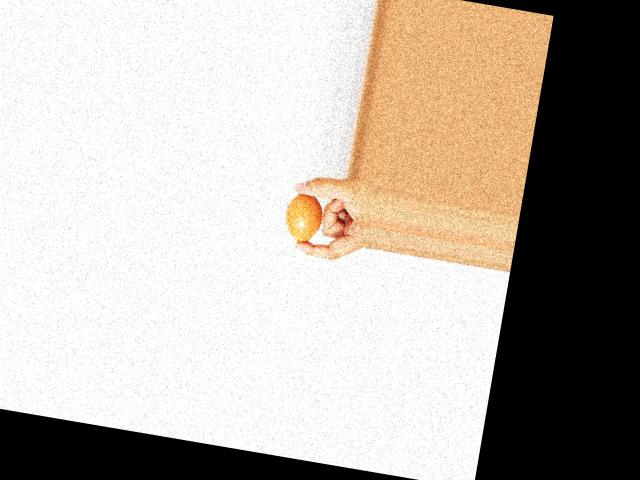egg: (280, 191, 325, 245)
